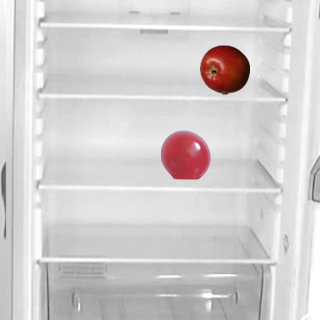Apple Braeburn: (199, 44, 249, 94)
Redcurrant: (160, 129, 210, 179)
